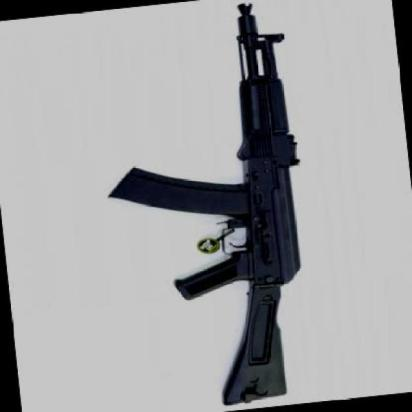Gun: (92, 0, 347, 412)
